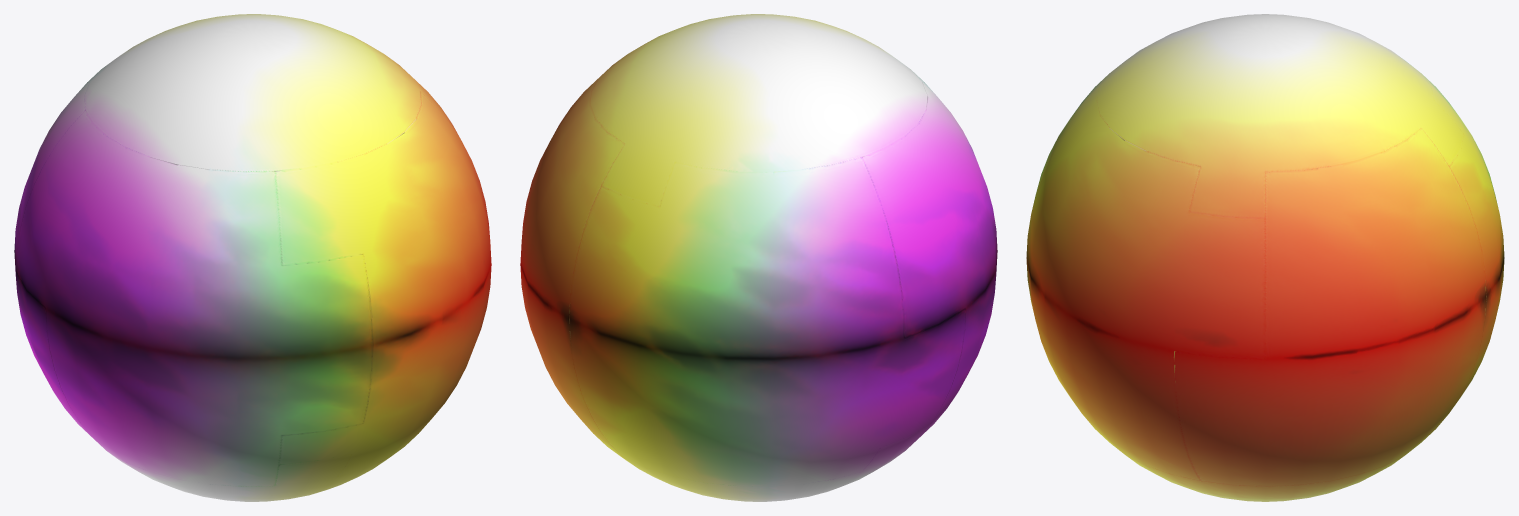
Rendered from abcd.gltf.
3 renders of one model, left to right at view 1: azimuth 30°, elevation 25°; view 2: azimuth 150°, elevation 25°; view 3: azimuth 270°, elevation 25°, orthographic.
Visible parts, largest first — view 1: Sphere; view 2: Sphere; view 3: Sphere.
Boxes of the visible parts, x1,y1,x2,y2 form: Sphere: [14, 14, 491, 501]; Sphere: [520, 14, 997, 501]; Sphere: [1026, 14, 1504, 501].
Bounding box in the file's own units: 1.94 × 1.99 × 1.94.
Materials: 1 (1 with a texture image).
